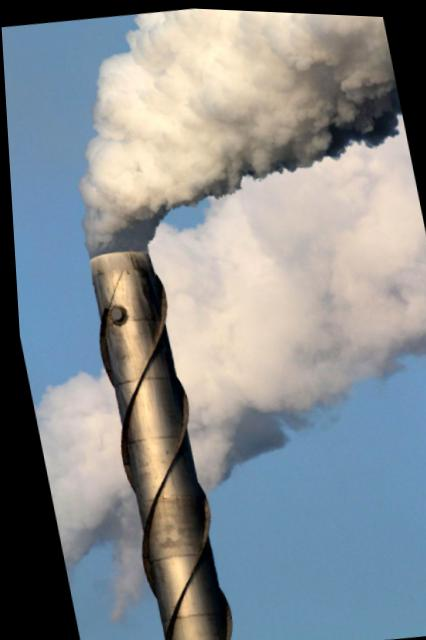smoke: (238, 119, 423, 366), (161, 6, 382, 148), (157, 218, 286, 420), (25, 377, 136, 565), (100, 59, 214, 199), (86, 152, 135, 215)
